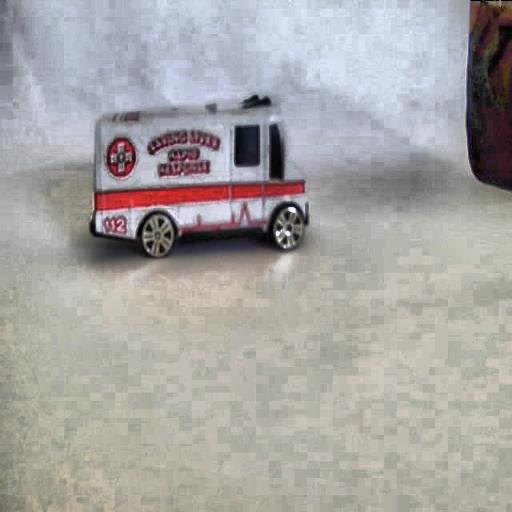ambulance: (89, 93, 309, 258)
